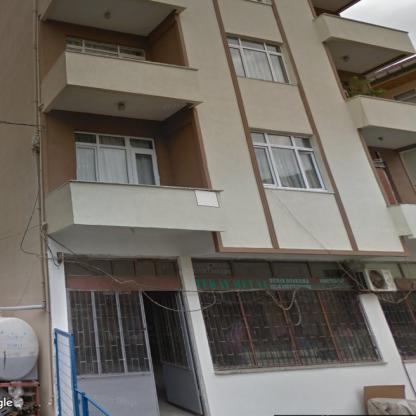door: (149, 294, 199, 412)
window: (200, 290, 376, 369), (72, 291, 152, 375), (248, 132, 323, 190), (76, 133, 158, 184), (194, 259, 344, 278), (228, 37, 289, 82), (382, 291, 414, 357), (66, 259, 176, 275), (67, 38, 145, 60)
